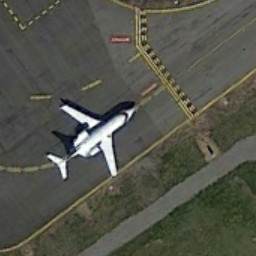Airplane: (34, 87, 142, 200)
